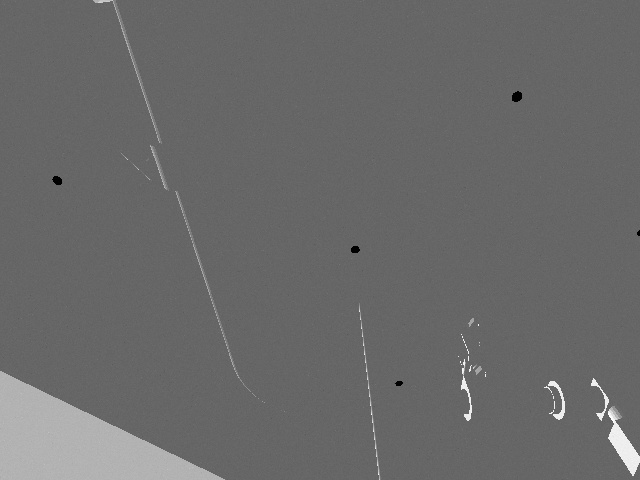hole: (510, 89, 524, 104), (50, 174, 64, 187), (349, 244, 362, 255), (393, 378, 405, 388)
